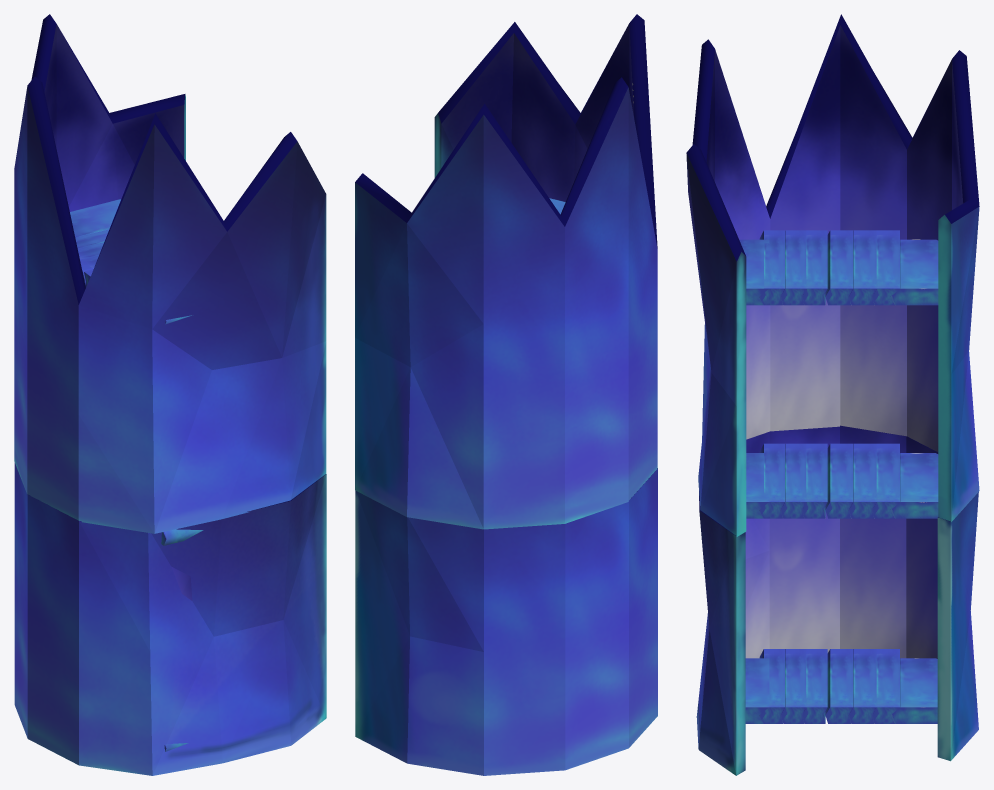
Rendered from trees.FBX.
3 views of the same model, side by side, from view 1: azimuth 30°, elevation 25°; view 2: azimuth 150°, elevation 25°; view 3: azimuth 270°, elevation 25° (orthographic). The views are drawn at different scales.
Visible parts, largest first — view 1: Cylinder006, Cylinder005, Box007; view 2: Cylinder006, Cylinder005; view 3: Cylinder006, Cylinder005, Box007, Box012, Box017, Box021, Box018, Box024, Box019, Box022, Box025, Box023 (+14 smaller).
Boxes of the visible parts, box(x1,y1,x2,y2) form: Cylinder006: box(14, 14, 326, 533); Cylinder005: box(14, 462, 326, 775); Box007: box(70, 199, 120, 237); Cylinder006: box(355, 14, 657, 529); Cylinder005: box(355, 468, 657, 775); Cylinder006: box(686, 14, 979, 536); Cylinder005: box(696, 425, 978, 775); Box007: box(890, 239, 938, 305); Box012: box(890, 453, 938, 518); Box017: box(890, 658, 937, 723); Box021: box(825, 443, 853, 518); Box018: box(825, 230, 853, 305); Box024: box(825, 649, 853, 723); Box019: box(849, 230, 876, 305); Box022: box(849, 443, 876, 518); Box025: box(848, 649, 876, 723); Box023: box(872, 443, 899, 518).
Size of the model in its own units: 3921 by 10099 by 4139.
